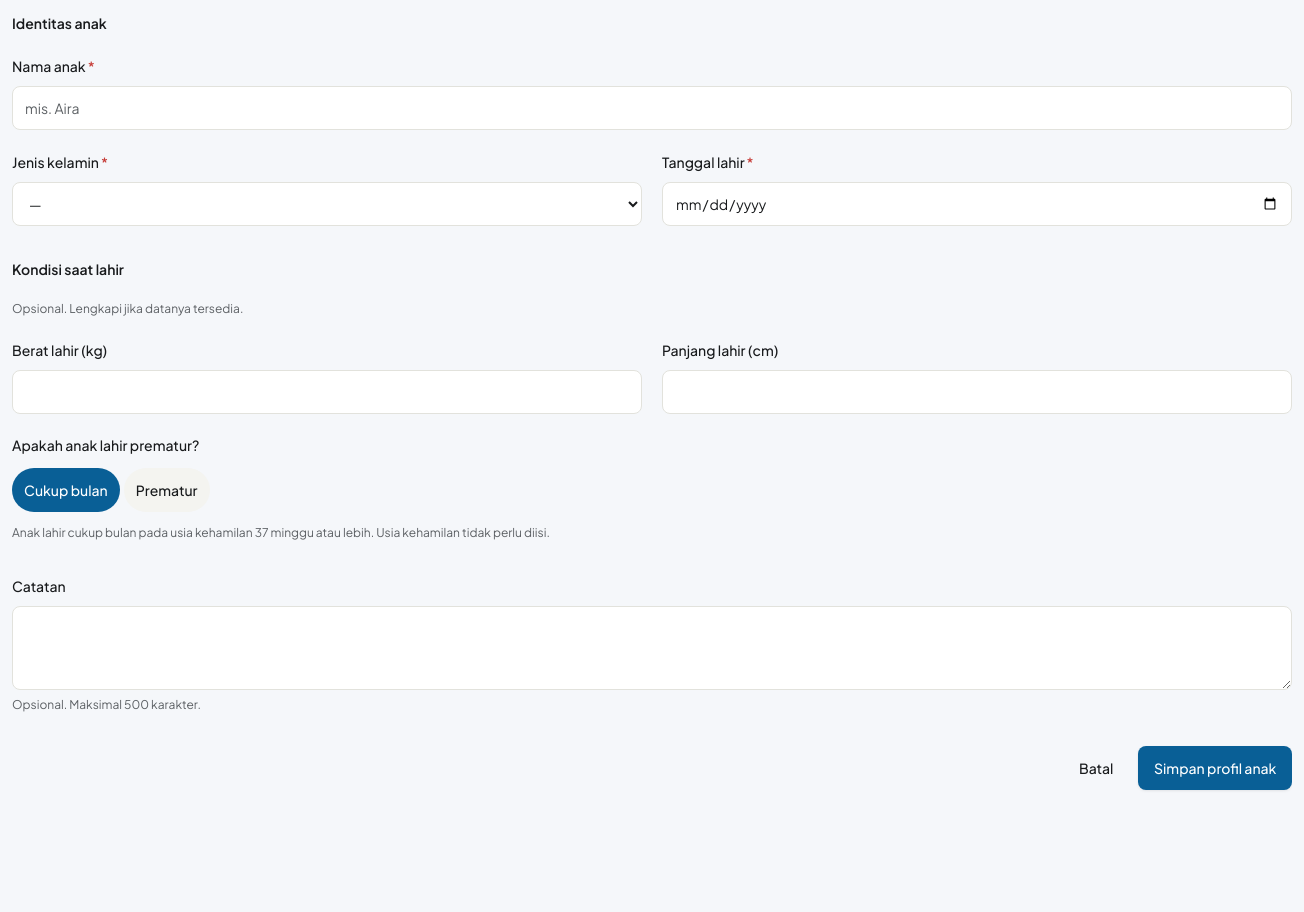
Scenario: AddChildForm › renders a general banner when the action returns a message without field errors
The image size is (1304, 912).
Type "Aira" into the field labelled "Nama anak*" at (652, 108), box [12,86,1292,130]
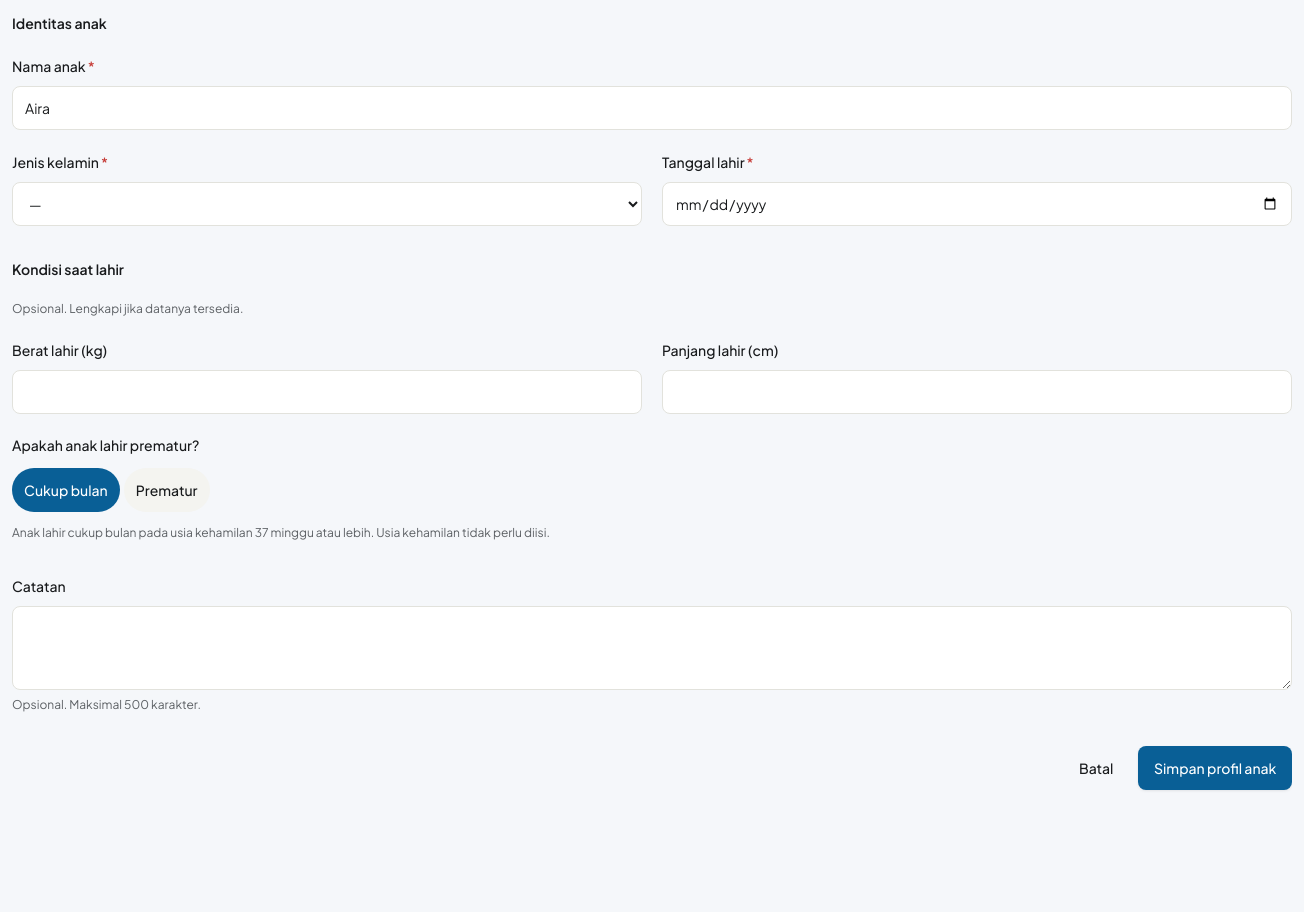
Select "Perempuan" in the dropdown labelled "Jenis kelamin*" at (327, 204), box [12,182,642,226]
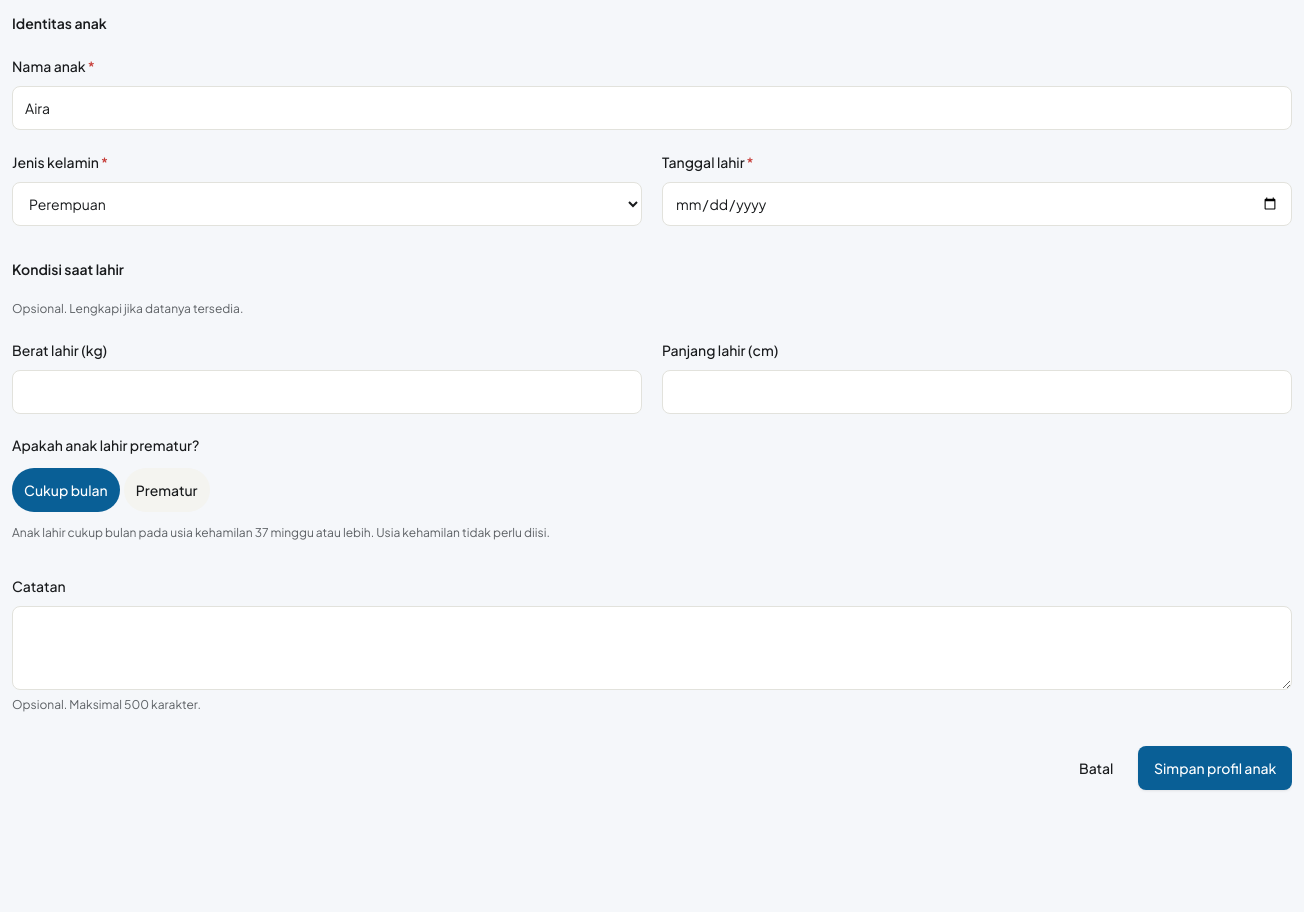
Type "2024-01-15" into the date field labelled "Tanggal lahir*" at (977, 204), box [662,182,1292,226]
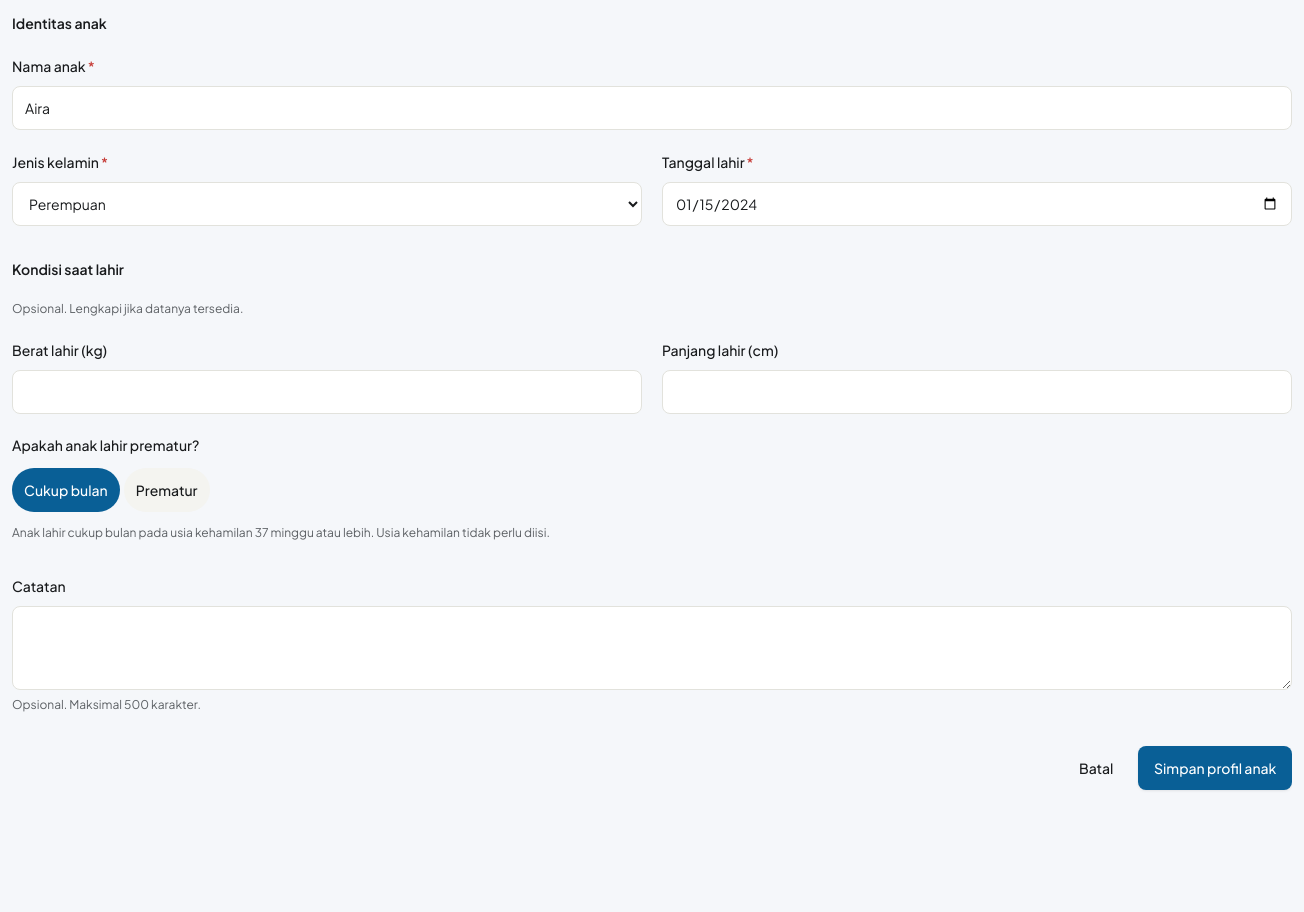
Click the button "Simpan profil anak" at (1215, 768), box [1138,746,1292,790]
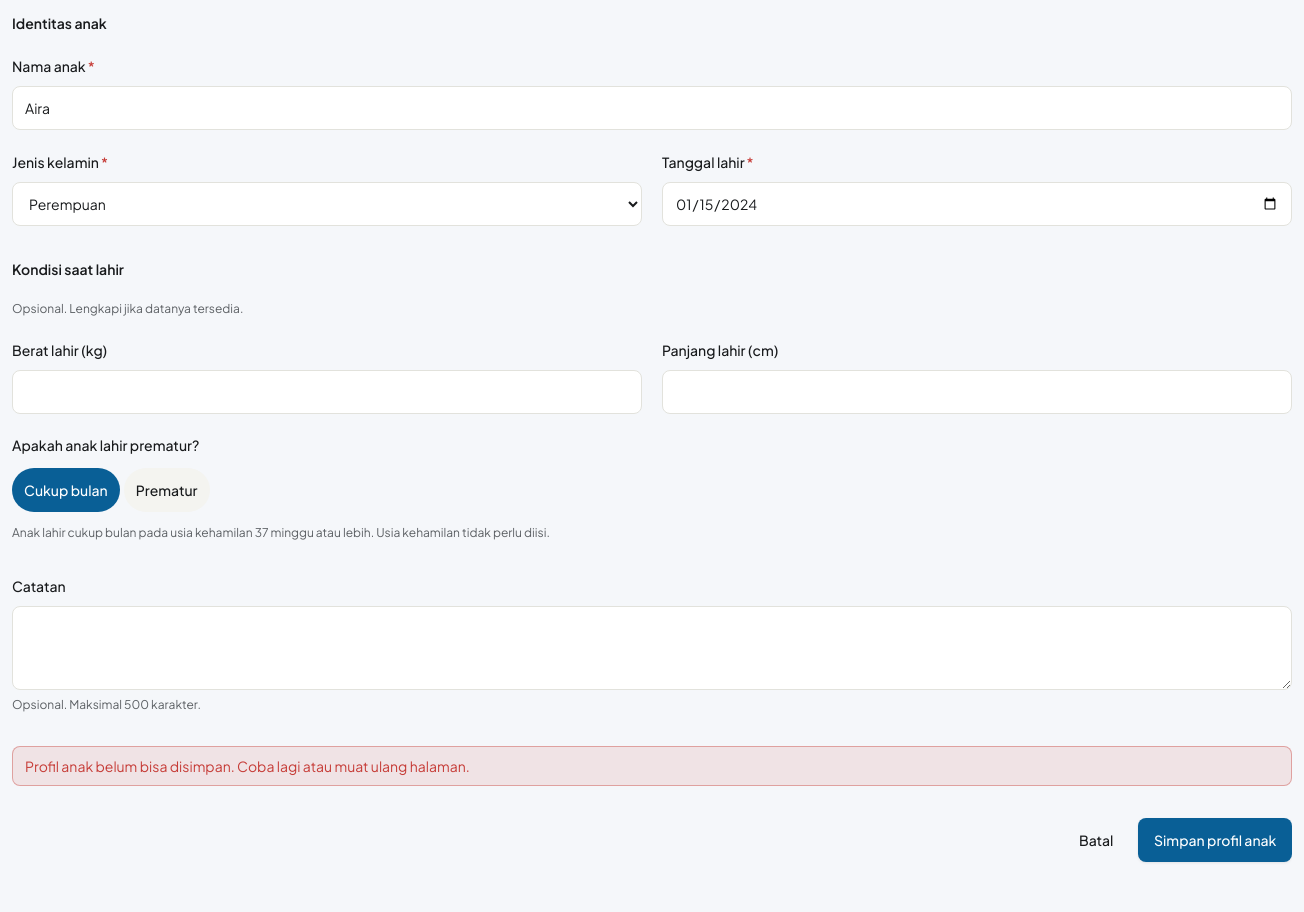
Expected: the message reads "Profil anak belum bisa disimpan. Coba lagi atau muat ulang halaman.", [25,757,470,775]
